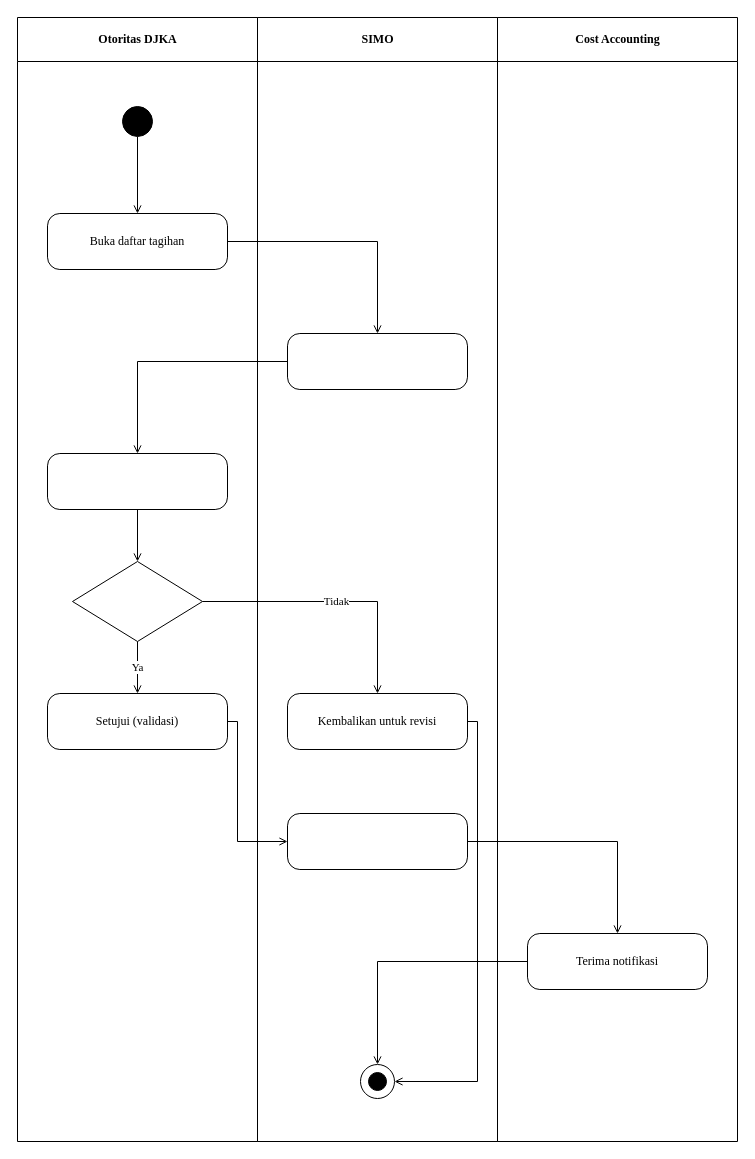
Image size: 755x1159. Some labels were removed from this diagram. Each missing label, with the centre of its shape:
Perbarui status terverifikasi: the point at 377,841
Periksa kesesuaian: the point at 137,481
Sesuai?: the point at 137,601
Tampilkan detail & dokumen: the point at 377,361
